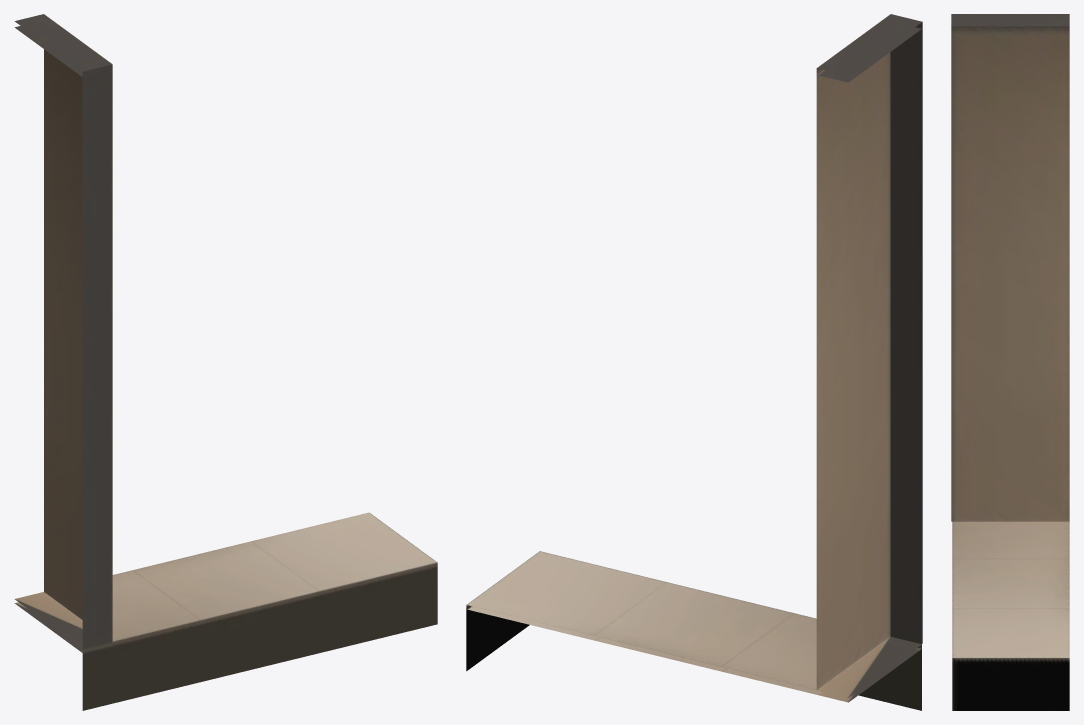
File: front-left.glb
The picture shows the model from 3 angles, left to right: view 1: azimuth 30°, elevation 25°; view 2: azimuth 150°, elevation 25°; view 3: azimuth 270°, elevation 25°; orthographic projection. The views are drawn at different scales.
Visible parts, largest first — view 1: frontLeft; view 2: frontLeft; view 3: frontLeft.
Boxes of the visible parts, x1,y1,x2,y2 form: frontLeft: (14, 14, 437, 710); frontLeft: (466, 14, 922, 710); frontLeft: (951, 14, 1069, 710).
Bounding box in the file's own units: 1.8 × 3.1 × 0.605.
1 material, 1 textured.
